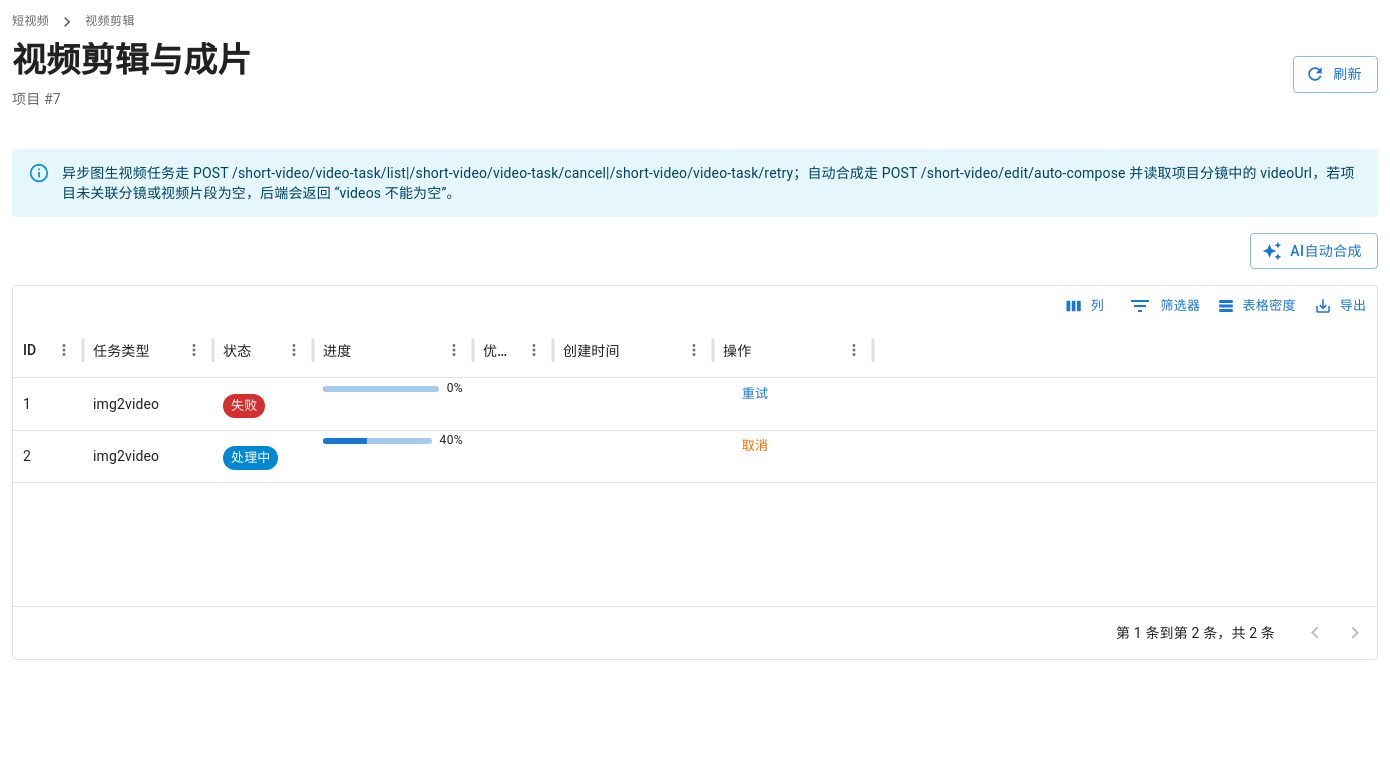
Test: VideoEditingPage › shows cancel and retry endpoint errors while keeping task rows
expect the text "失败" is shown: met, box [231,398,257,413]
Click the button "重试".
click(755, 395)  # box [723,379,787,410]
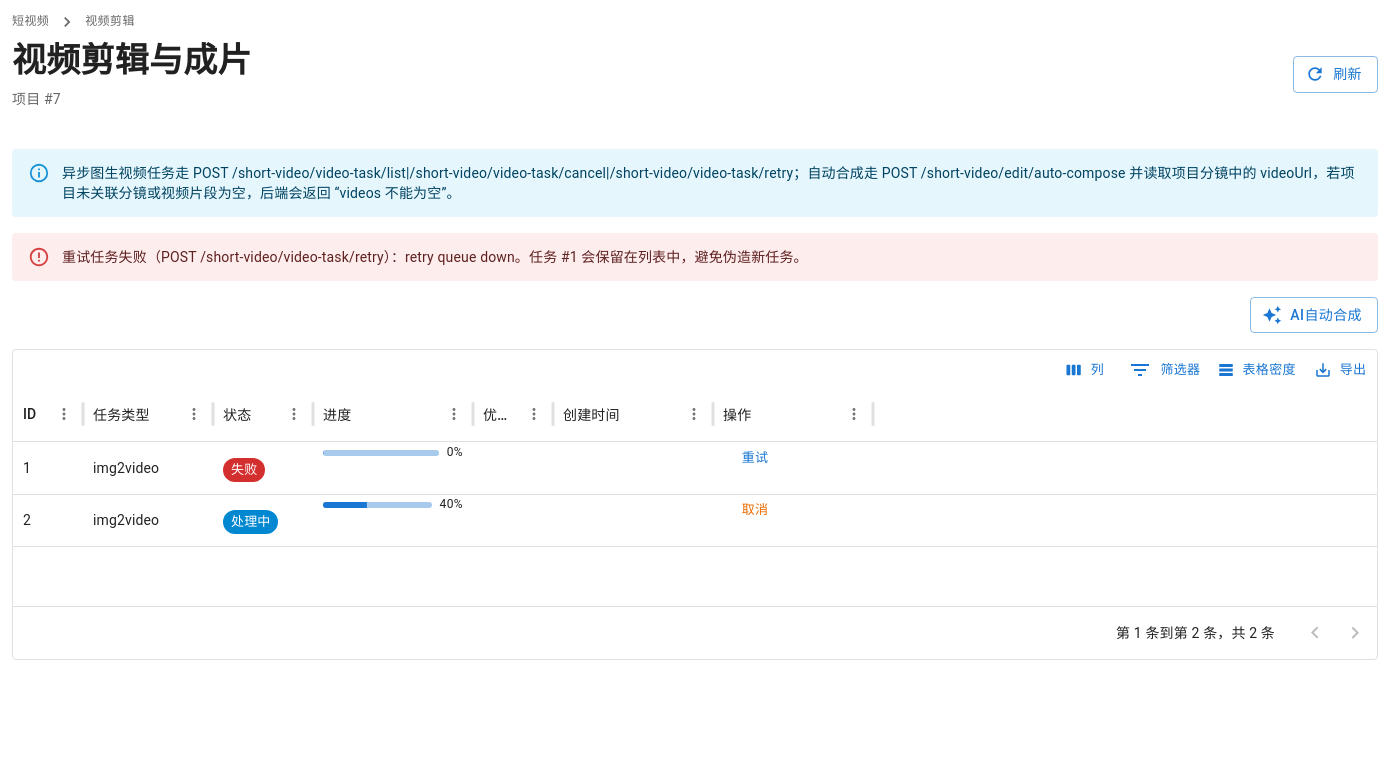
expect the 1st text "img2video" is shown: met, box [93,460,159,476]
expect the text "重试任务失败（POST /short-video/video-task/retry）：retry queue down" is shown: met, box [62,249,808,265]
Click the button "取消".
click(755, 511)  # box [723,495,787,526]
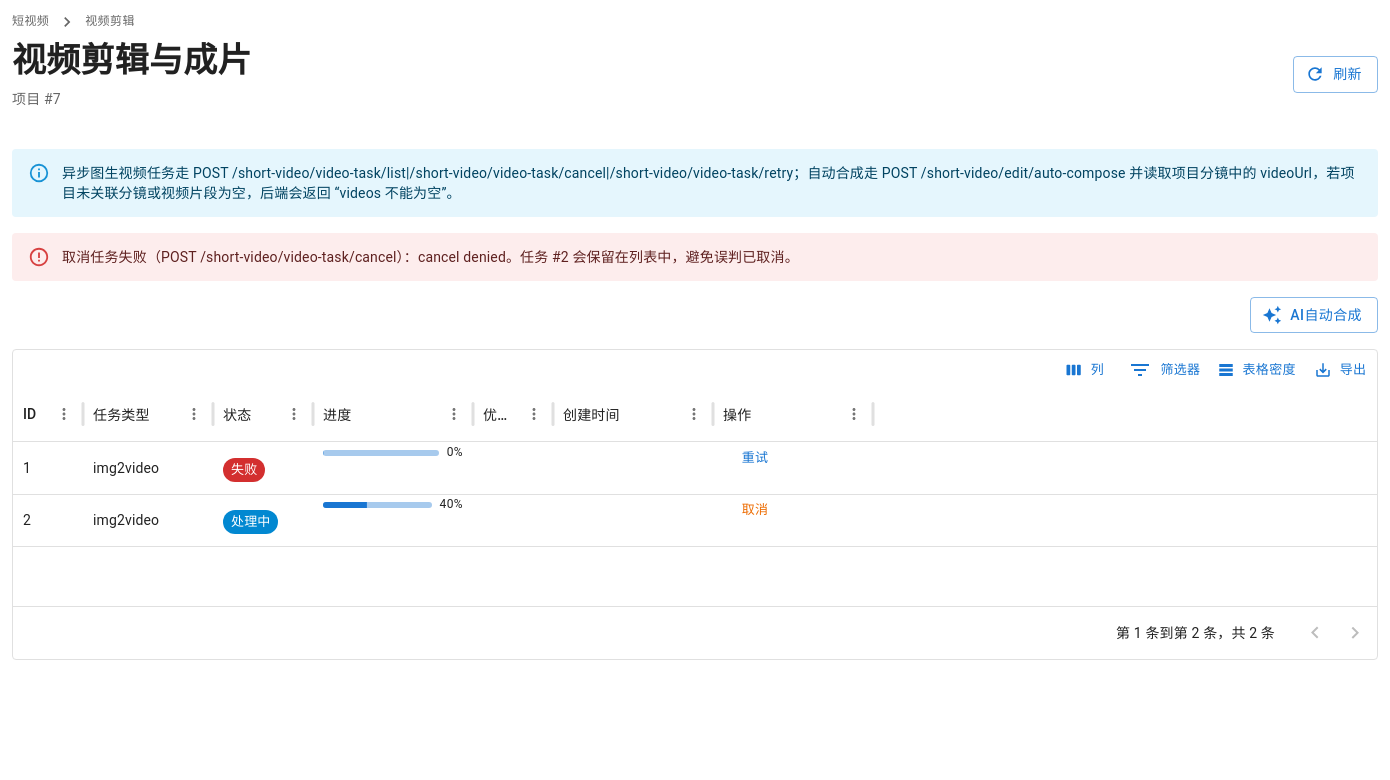
expect the text "处理中" is shown: met, box [231,514,270,529]
expect the text "取消任务失败（POST /short-video/video-task/cancel）：cancel denied" is shown: met, box [62,249,799,265]
